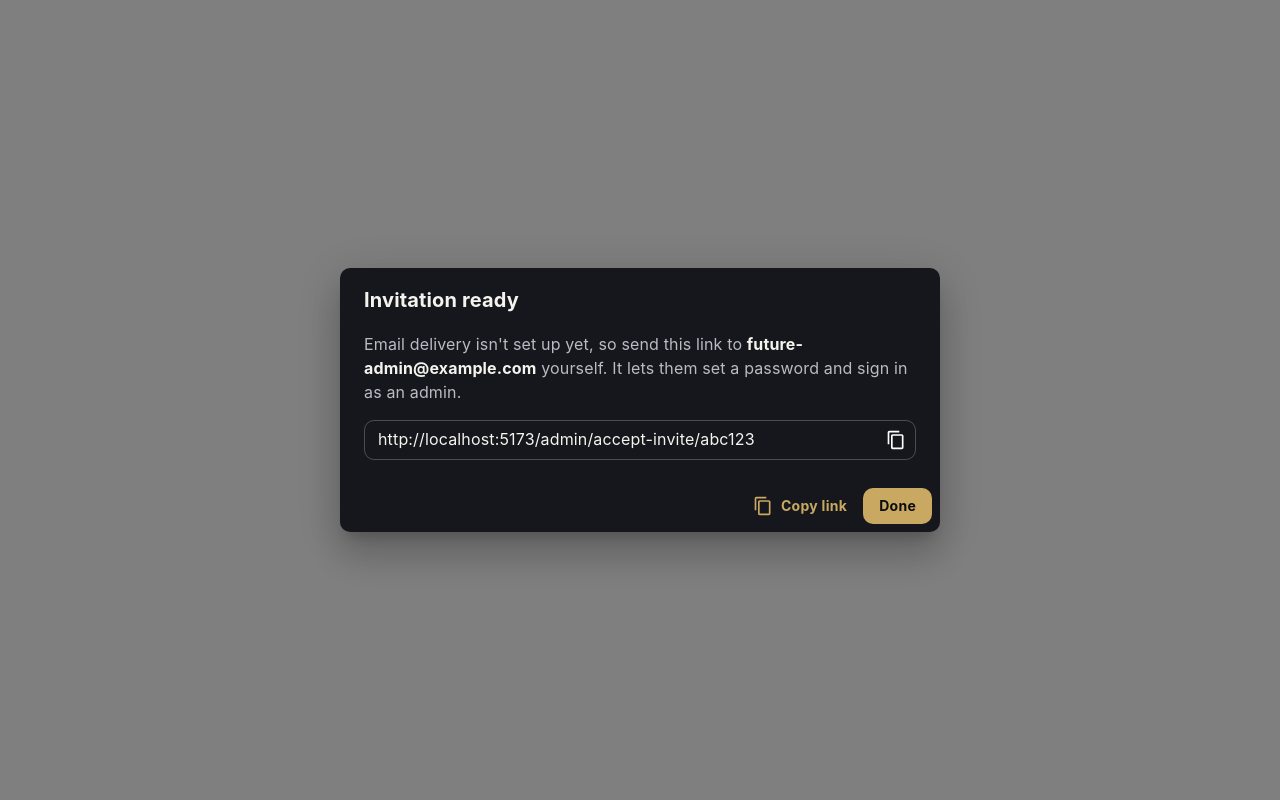
InviteLinkDialog › copies the link to the clipboard when Copy link is clicked
Click the button "Copy link". click: click(802, 506)
box: [749, 488, 855, 524]
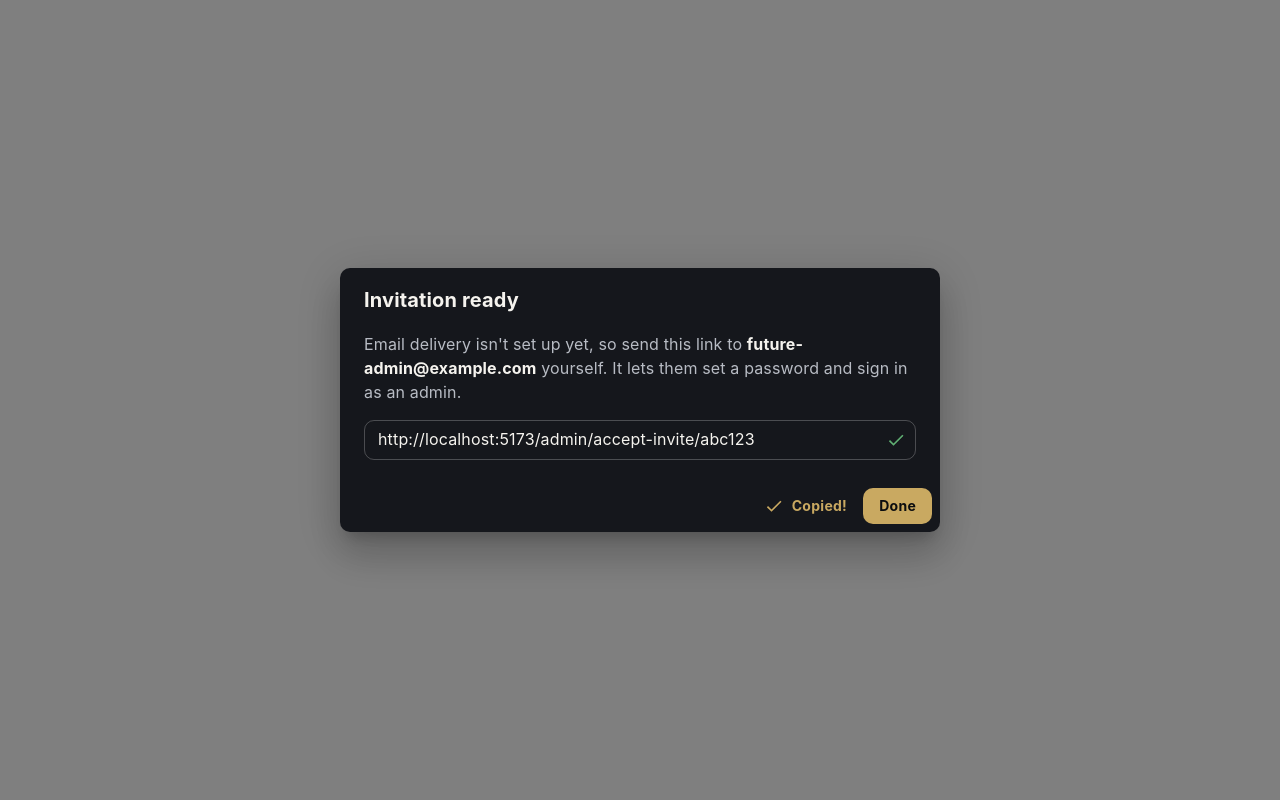
Result: the button "Copied!" is shown at [760, 488, 855, 524]
